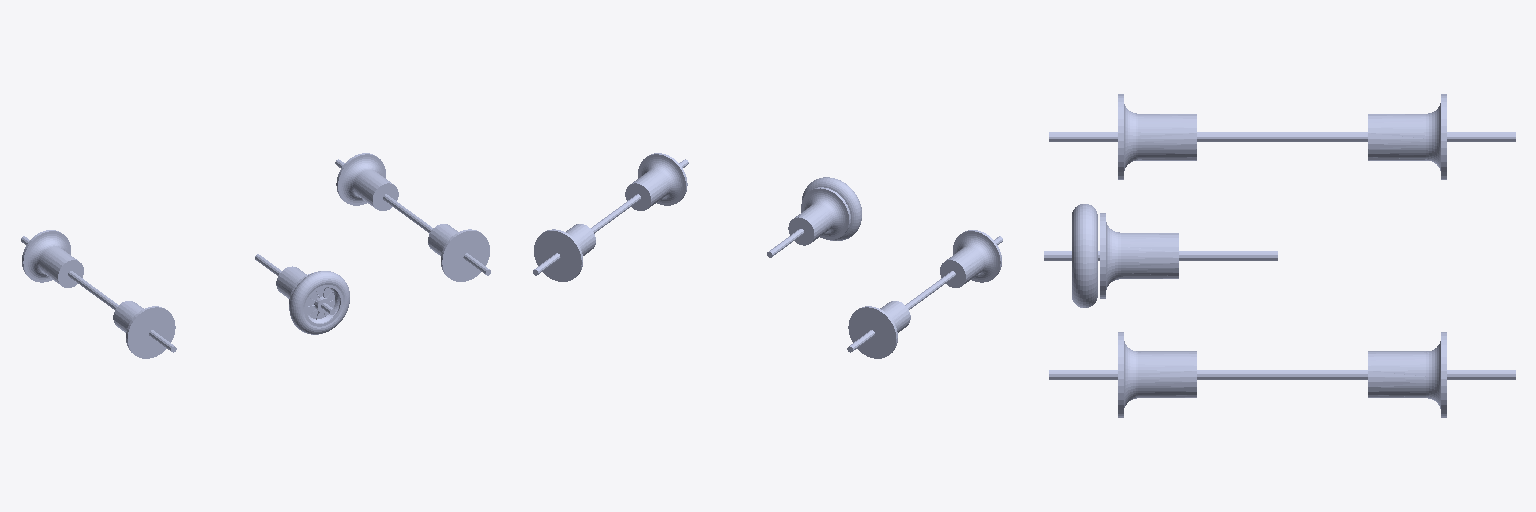
URDF robot description (pieter):
<robot
  name="pieter">
  <link
    name="base_link">
    <inertial>
      <origin
        xyz="0 0 00"
        rpy="0 0 0" />
      <mass
        value="0.11528" />
      <inertia
        ixx="2.7212E-05"
        ixy="-4.1994E-08"
        ixz="-3.177E-10"
        iyy="3.8126E-05"
        iyz="-1.8674E-07"
        izz="6.5335E-05" />
    </inertial>
    <visual>
      <origin
        xyz="0 0 0.0733"
        rpy="0 0 0" />
      <geometry>
        <mesh
          filename="package://pieter/meshes/base_link.STL" />
      </geometry>
      <material
        name="">
        <color
          rgba="0.18824 0.46667 0.31765 1" />
      </material>
    </visual>
    <collision>
      <origin
        xyz="0 0 0"
        rpy="0 0 0" />
      <geometry>
        <mesh
          filename="package://pieter/meshes/base_link.STL" />
      </geometry>
    </collision>
  </link>




  <link
    name="left_axle">
    <inertial>
      <origin
        xyz="0.31506 2.498E-15 -2.1372E-15"
        rpy="0 0 0" />
      <mass
        value="2.3051" />
      <inertia
        ixx="2.6807E-29"
        ixy="2.2447E-16"
        ixz="-1.9519E-16"
        iyy="0.0059169"
        iyz="-4.237E-33"
        izz="0.0059169" />
    </inertial>
    <visual>
      <origin0
        xyz="0 0 0"
        rpy="0 0 0" />
      <geometry>
        <mesh
          filename="package://pieter/meshes/left_axle.STL" />
      </geometry>
      <material
        name="">
        <color
          rgba="0.79216 0.81961 0.93333 1" />
      </material>
    </visual>
    <collision>
      <origin
        xyz="0 0 0"
        rpy="0 0 0" />
      <geometry>
        <mesh
          filename="package://pieter/meshes/left_axle.STL" />
      </geometry>
    </collision>
  </link>
  <joint
    name="left_axis"
    type="fixed">
    <origin
      xyz="0.075 -0.232 0.09"
      rpy="0 -7.4113E-17 0" />
    <parent
      link="base_link" />
    <child
      link="left_axle" />
    <axis
      xyz="0 1 0" />
  </joint>






  <link
    name="right_axle">
    <inertial>
      <origin
        xyz="0.31506 2.3183E-14 2.584E-14"
        rpy="0 0 0" />
      <mass
        value="2.3051" />
      <inertia
        ixx="2.6833E-29"
        ixy="-2.2457E-16"
        ixz="-1.9586E-16"
        iyy="0.0059169"
        iyz="-2.1684E-19"
        izz="0.0059169" />
    </inertial>
    <visual>
      <origin
        xyz="0 0 0"
        rpy="0 0 0" />0
      <geometry>
        <mesh
          filename="package://pieter/meshes/right_axle.STL" />
      </geometry>
      <material
        name="">
        <color
          rgba="0.79216 0.81961 0.93333 1" />
      </material>
    </visual>
    <collision>
      <origin
        xyz="0 0 0"
        rpy="0 0 0" />
      <geometry>
        <mesh
          filename="package://pieter/meshes/right_axle.STL" />
      </geometry>
    </collision>
  </link>
  <joint
    name="right_axis"
    type="fixed">
    <origin
      xyz="0.075 0.225 0.09"
      rpy="3.1415 6.123E-17 0" />
    <parent
      link="base_link" />
    <child
      link="right_axle" />
    <axis
      xyz="0 -1 0" />
  </joint>






  <link
    name="front_axle">
    <inertial>
      <origin
        xyz="0.0078 -5.1903E-15 -2.0983E-14"
        rpy="0 0 1.5708" />
      <mass
        value="2.4793" />
      <inertia
        ixx="7.3229E-30"
        ixy="-9.591E-16"
        ixz="9.6339E-18"
        iyy="0.13818"
        iyz="0"
        izz="0.13818" />
    </inertial>
    <visual>
      <origin
        xyz="0 0 0"
        rpy="0 0 0" />
      <geometry>
        <mesh
          filename="package://pieter/meshes/front_axle.STL" />
      </geometry>
      <material
        name="">
        <color
          rgba="0.79216 0.81961 0.93333 1" />
      </material>
    </visual>
    <collision>
      <origin
        xyz="0 0 0"
        rpy="0 0 0" />
      <geometry>
        <mesh
          filename="package://pieter/meshes/front_axle.STL" />
      </geometry>
    </collision>
  </link>
  <joint
    name="front_axis"
    type="fixed">
    <origin
      xyz="-0.462 0 0.09"
      rpy="0 4.358E-17 1.5708" />
    <parent
      link="base_link" />
    <child
      link="front_axle" />
    <axis
      xyz="-1 0 0" />
  </joint>






  <link
    name="rear_axle">
    <inertial>
      <origin
        xyz="0.0078 1.4755E-13 5.8675E-14"
        rpy="0 0 0" />
      <mass
        value="2.4793" />
      <inertia
        ixx="7.2394E-30"
        ixy="-9.5E-16"
        ixz="-4.6934E-18"
        iyy="0.13818"
        iyz="1.3334E-34"
        izz="0.13818" />
    </inertial>
    <visual>
      <origin
        xyz="0 0 0"
        rpy="0 0 0" />
      <geometry>
        <mesh
          filename="package://pieter/meshes/rear_axle.STL" />
      </geometry>
      <material
        name="">
        <color
          rgba="0.79216 0.81961 0.93333 1" />
      </material>
    </visual>
    <collision>
      <origin
        xyz="0 0 0"
        rpy="0 0 0" />
      <geometry>
        <mesh
          filename="package://pieter/meshes/rear_axle.STL" />
      </geometry>
    </collision>
  </link>
  <joint
    name="rear_axis"
    type="fixed">
    <origin
      xyz="0.6125 0 0.09"
      rpy="0 4.358E-17 1.5708" />
    <parent
      link="base_link" />
    <child
      link="rear_axle" />
    <axis
      xyz="-1 0 0" />
  </joint>
</robot>

--- Facts derived from the render (not from the file) ---
3 views of the same robot in one strip: view 1: azimuth 30°, elevation 25°; view 2: azimuth 150°, elevation 25°; view 3: azimuth 270°, elevation 25° (orthographic).
Robot: pieter — 5 links, 4 joints (4 fixed); root link base_link; default pose: every joint at zero.
Visible links, largest first — view 1: front_axle, rear_axle, left_axle; view 2: rear_axle, front_axle, left_axle; view 3: rear_axle, front_axle, left_axle.
Boxes of the visible links, x1,y1,x2,y2 form: front_axle: (21,230,176,358); rear_axle: (335,153,490,281); left_axle: (255,254,349,334); rear_axle: (533,153,688,281); front_axle: (847,230,1002,358); left_axle: (767,177,861,257); rear_axle: (1049,332,1515,417); front_axle: (1049,94,1515,179); left_axle: (1044,204,1277,307).
Bounding box of the posed robot: 1.24 × 0.8995 × 0.1997 m (x, y, z).
3 mesh visuals loaded from 5 distinct referenced files (3 binary STL); not drawn: 2 (reference not matched to a file when rendering).
